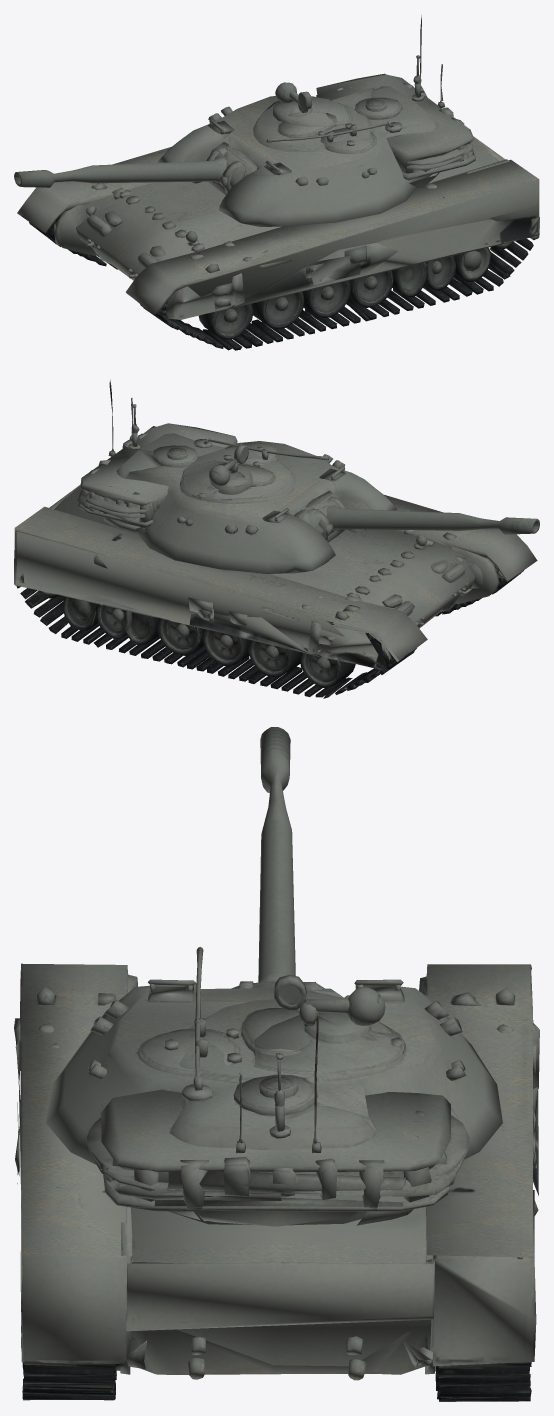
File: east.glb
3 renders of one model, top to bottom at view 1: azimuth 30°, elevation 25°; view 2: azimuth 150°, elevation 25°; view 3: azimuth 270°, elevation 25°, orthographic. The views are drawn at different scales.
Bounding box in the file's own units: 1 × 0.4571 × 0.5471.
Materials: 1 (1 with a texture image).
